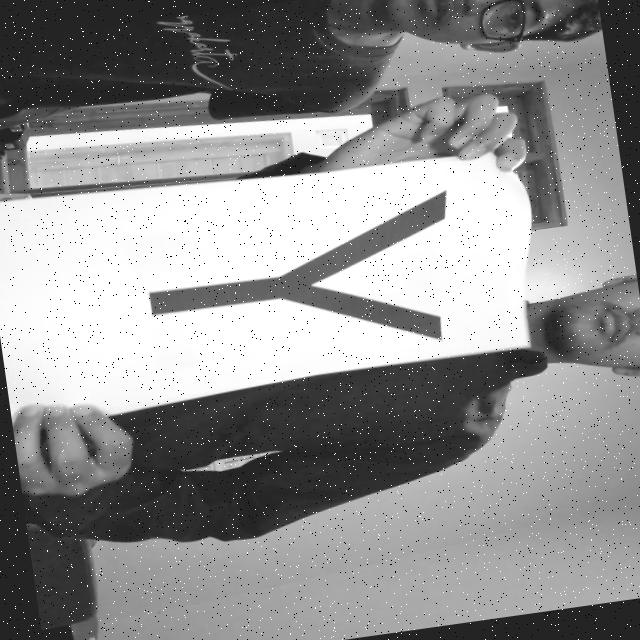y: (94, 178, 482, 422)
